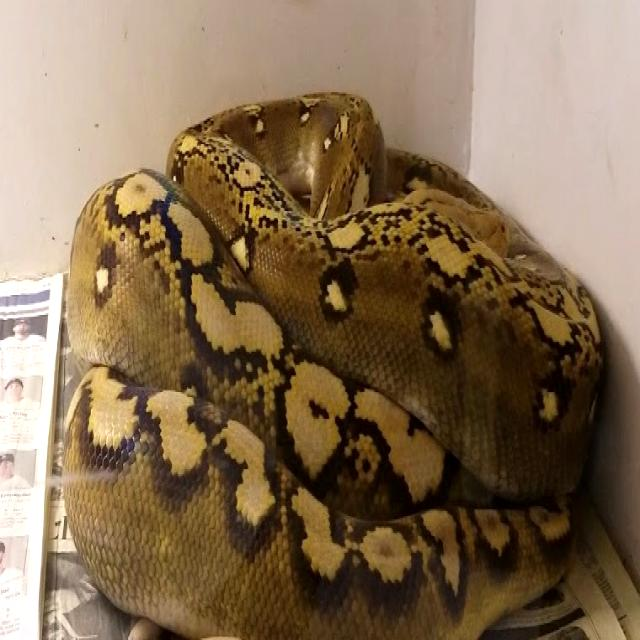Malayopython reticulatus: (64, 94, 602, 639)
snake: (64, 94, 602, 639)
